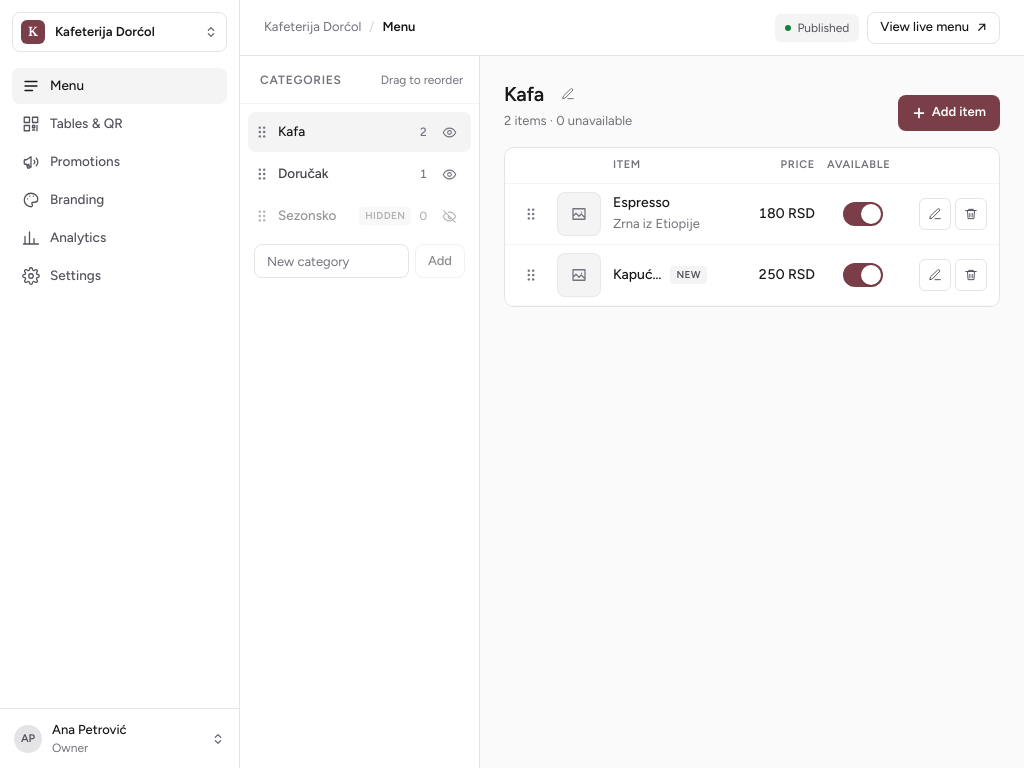
Scenario: superadmin area (Phase 13a) › hides the superadmin entry from regular owners
The width and height of the screenshot is (1024, 768).
Expected: the heading "Kafa" is shown, [504,82,544,106]
Click the button "K Kafeterija Dorćol" at (120, 32), box [12,12,227,52]
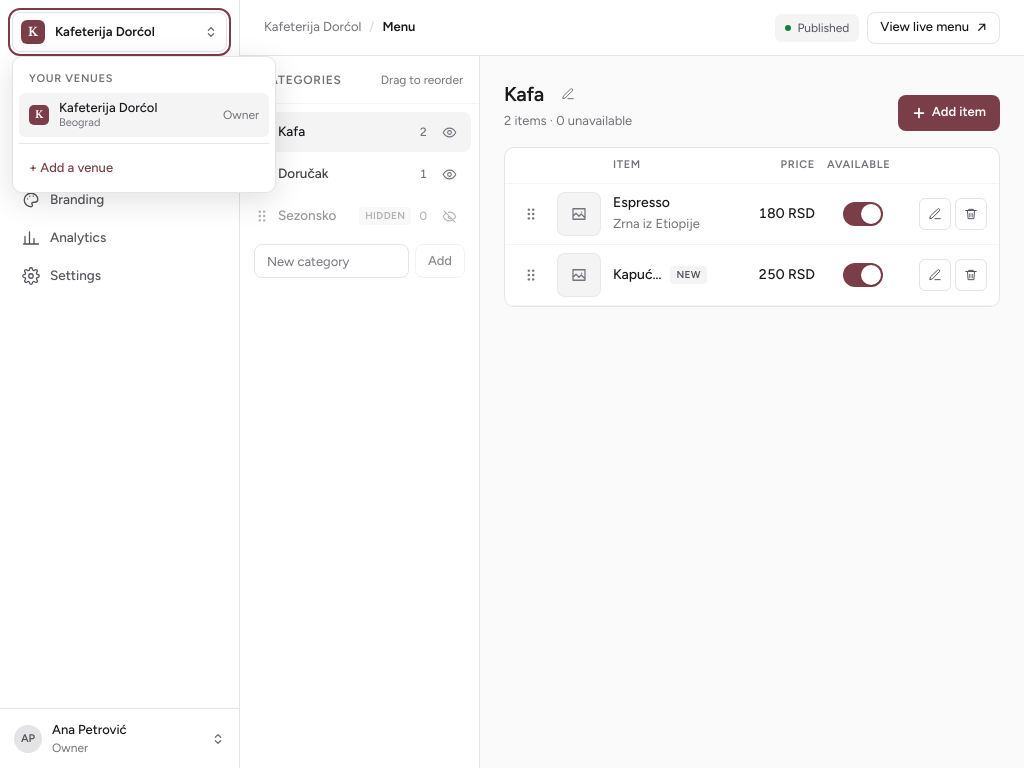
Result: the menu item "K Kafeterija Dorćol Beograd Owner" is shown at [19,93,269,137]
